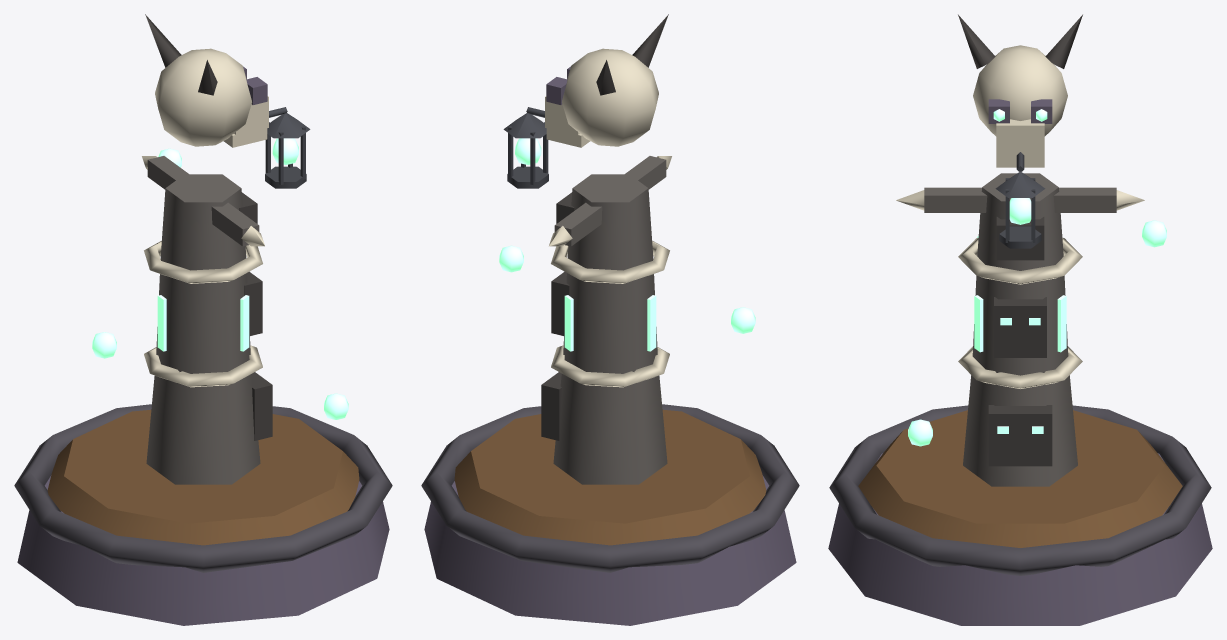
Rendered from tower_necromancer.glb.
The picture shows the model from 3 angles, left to right: view 1: azimuth 30°, elevation 25°; view 2: azimuth 150°, elevation 25°; view 3: azimuth 270°, elevation 25°; orthographic projection.
Visible parts, largest first — view 1: grave_soil, base, base_rim, pole_0, pole_1, skull_cranium, pole_2, bone_ring_1, crossbar, bone_ring_0, pole_face_0, pole_face_1 (+8 smaller); view 2: grave_soil, base, base_rim, pole_0, pole_1, skull_cranium, pole_2, bone_ring_1, crossbar, bone_ring_0, pole_face_0, pole_face_1 (+8 smaller); view 3: grave_soil, base, base_rim, pole_0, skull_cranium, pole_1, pole_2, pole_face_0, crossbar, pole_face_1, bone_ring_1, bone_ring_0 (+11 smaller).
Boxes of the visible parts, x1,y1,x2,y2 form: grave_soil: [47, 409, 359, 545]; base: [17, 475, 389, 625]; base_rim: [14, 404, 392, 572]; pole_0: [146, 374, 260, 484]; pole_1: [156, 257, 250, 373]; skull_cranium: [155, 48, 251, 146]; pole_2: [160, 174, 246, 270]; bone_ring_1: [144, 241, 262, 283]; crossbar: [147, 156, 259, 246]; bone_ring_0: [144, 345, 262, 387]; pole_face_0: [252, 372, 272, 440]; pole_face_1: [244, 271, 262, 336]; grave_soil: [454, 409, 766, 545]; base: [424, 475, 796, 625]; base_rim: [421, 404, 799, 572]; pole_0: [553, 374, 667, 484]; pole_1: [563, 257, 657, 373]; skull_cranium: [562, 48, 658, 146]; pole_2: [567, 174, 653, 270]; bone_ring_1: [551, 241, 669, 283]; crossbar: [554, 156, 666, 246]; bone_ring_0: [551, 345, 669, 387]; pole_face_0: [541, 372, 561, 440]; pole_face_1: [551, 271, 569, 336]; grave_soil: [858, 410, 1182, 547]; base: [828, 453, 1212, 625]; base_rim: [829, 405, 1211, 575]; pole_0: [963, 375, 1077, 486]; skull_cranium: [973, 45, 1067, 136]; pole_1: [972, 258, 1068, 375]; pole_2: [977, 173, 1063, 270]; pole_face_0: [988, 405, 1052, 466]; crossbar: [924, 187, 1116, 212]; pole_face_1: [994, 297, 1046, 357]; bone_ring_1: [958, 237, 1082, 284]; bone_ring_0: [958, 346, 1082, 388].
Size of the model in its own units: 0.398 by 0.5985 by 0.4.
